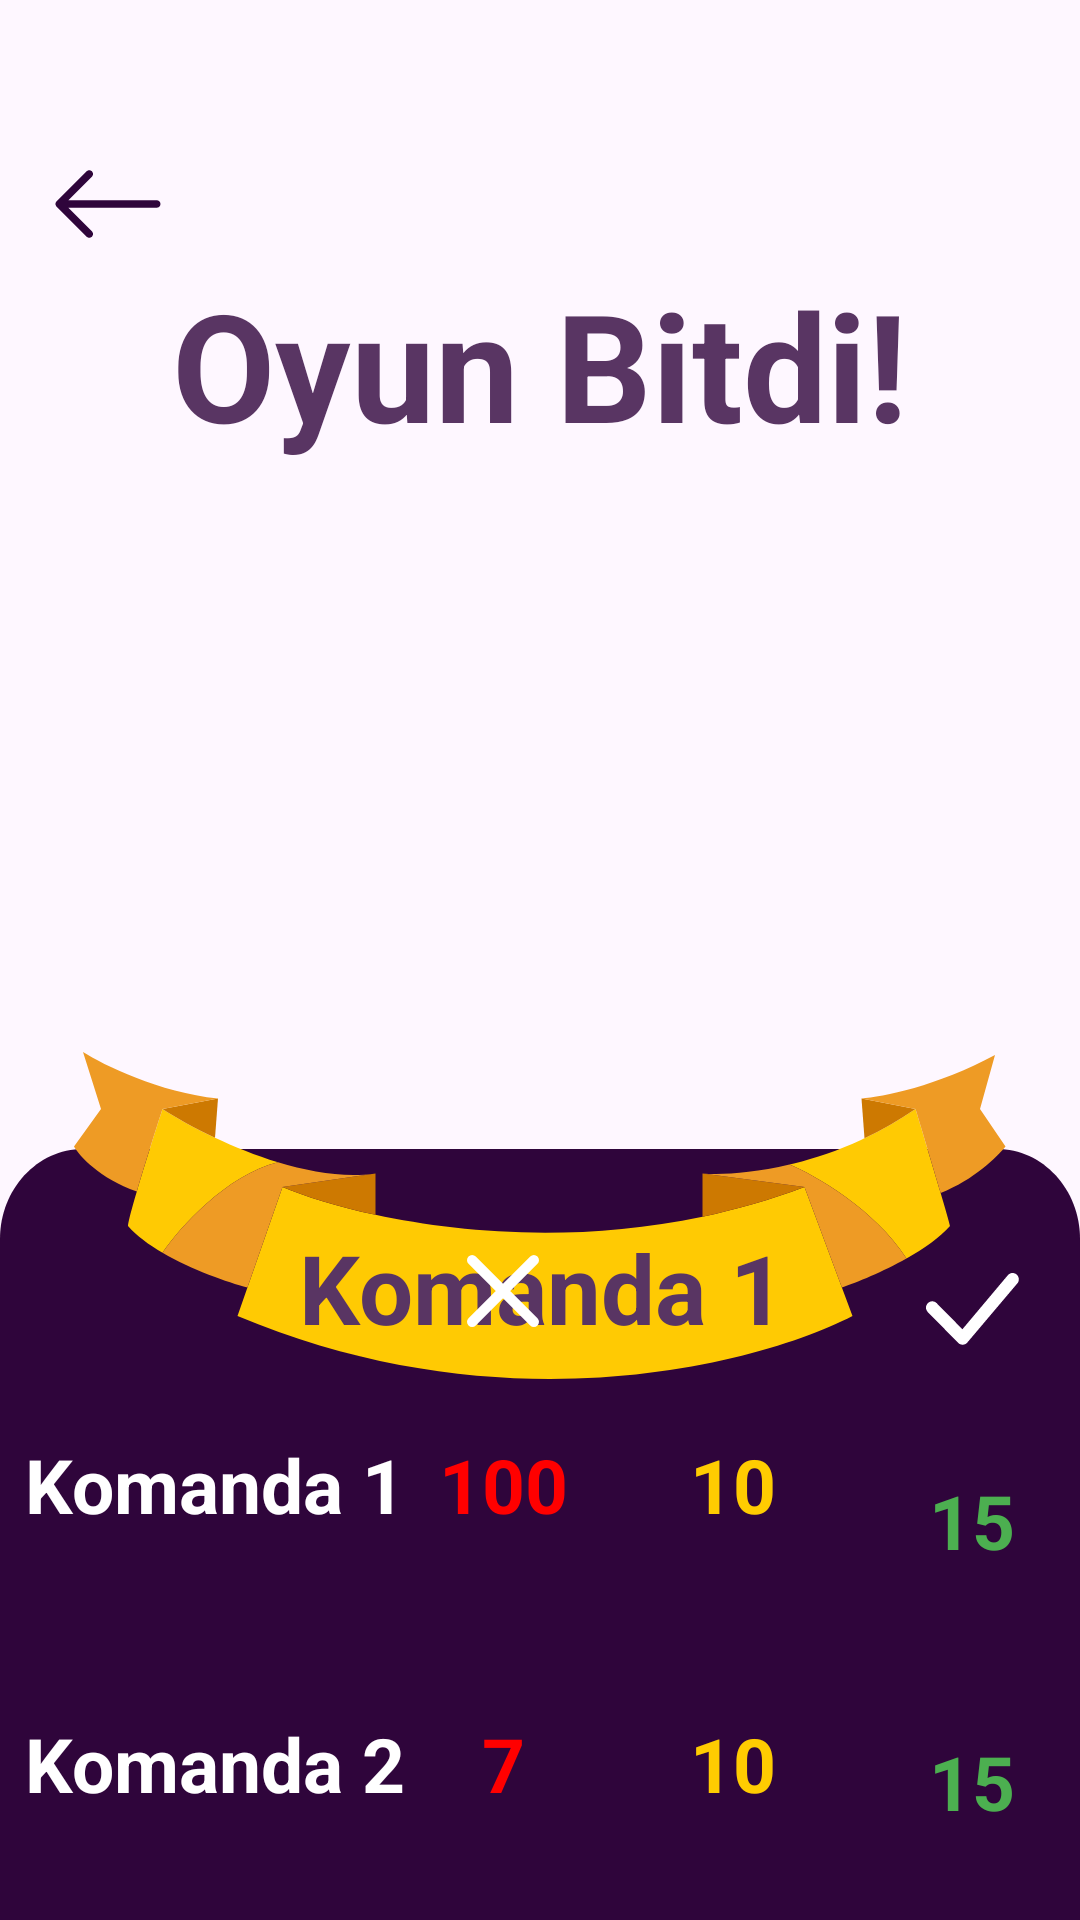

Screen size 1080 × 1920. Icon name, then its center in pixels as (x,y):
back: (108,204)
